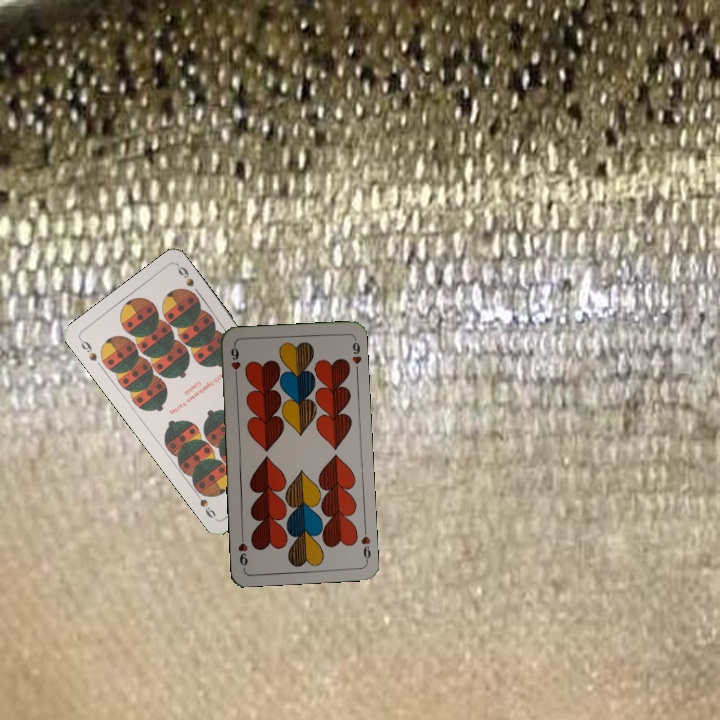H9: (357, 524, 374, 564), (227, 342, 243, 382)
S9: (75, 335, 100, 364)
